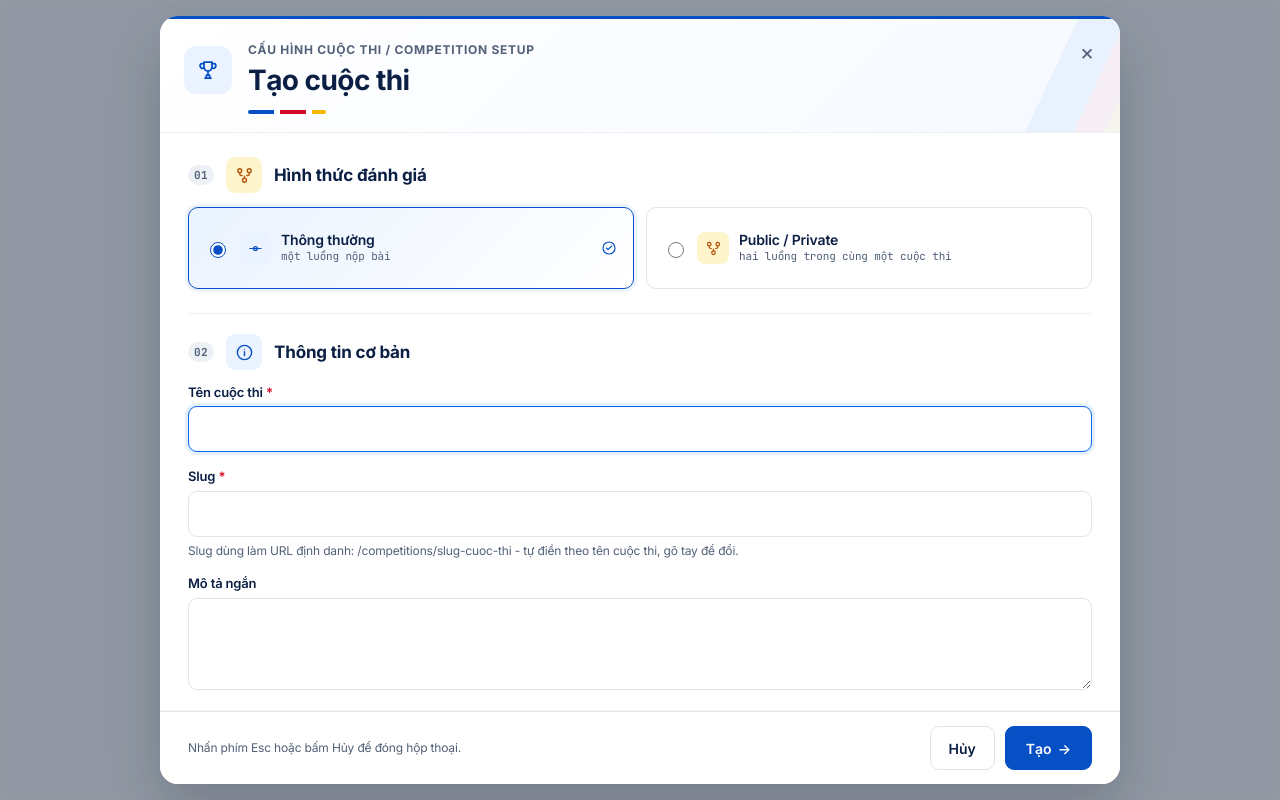
Test case: slug tự điền theo tên cuộc thi; gõ tay thì giá trị tay thắng
Type "Cuộc thi AI 2026" into the field labelled "Tên cuộc thi".
click(640, 429); type("Cuộc thi AI 2026")  # box x1=188 y1=406 x2=1092 y2=452
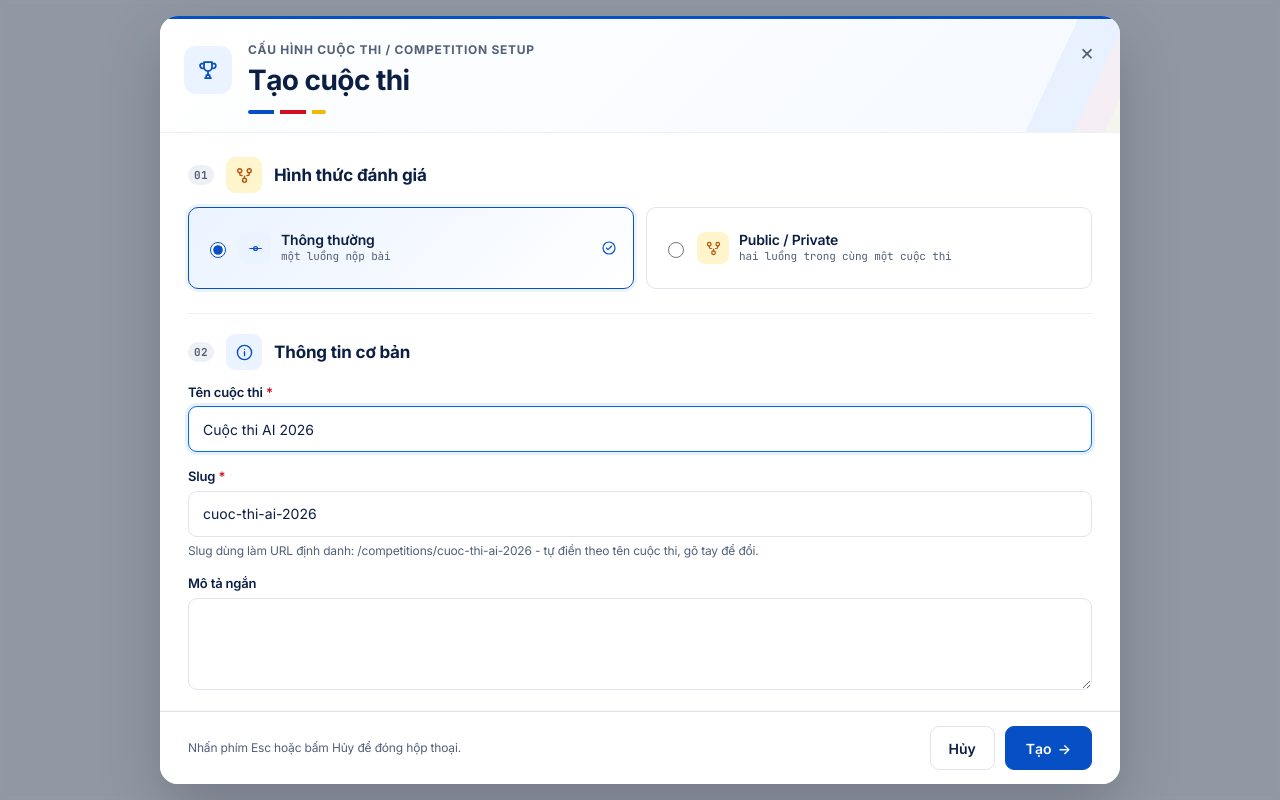
Result: the field labelled "Slug" holds "cuoc-thi-ai-2026"
Gõ tay vào slug: đổi tên tiếp cũng không ghi đè lựa chọn của admin.
Replace the text in the field labelled "Slug" with "vku-2026" at (640, 514), box x1=188 y1=490 x2=1092 y2=536
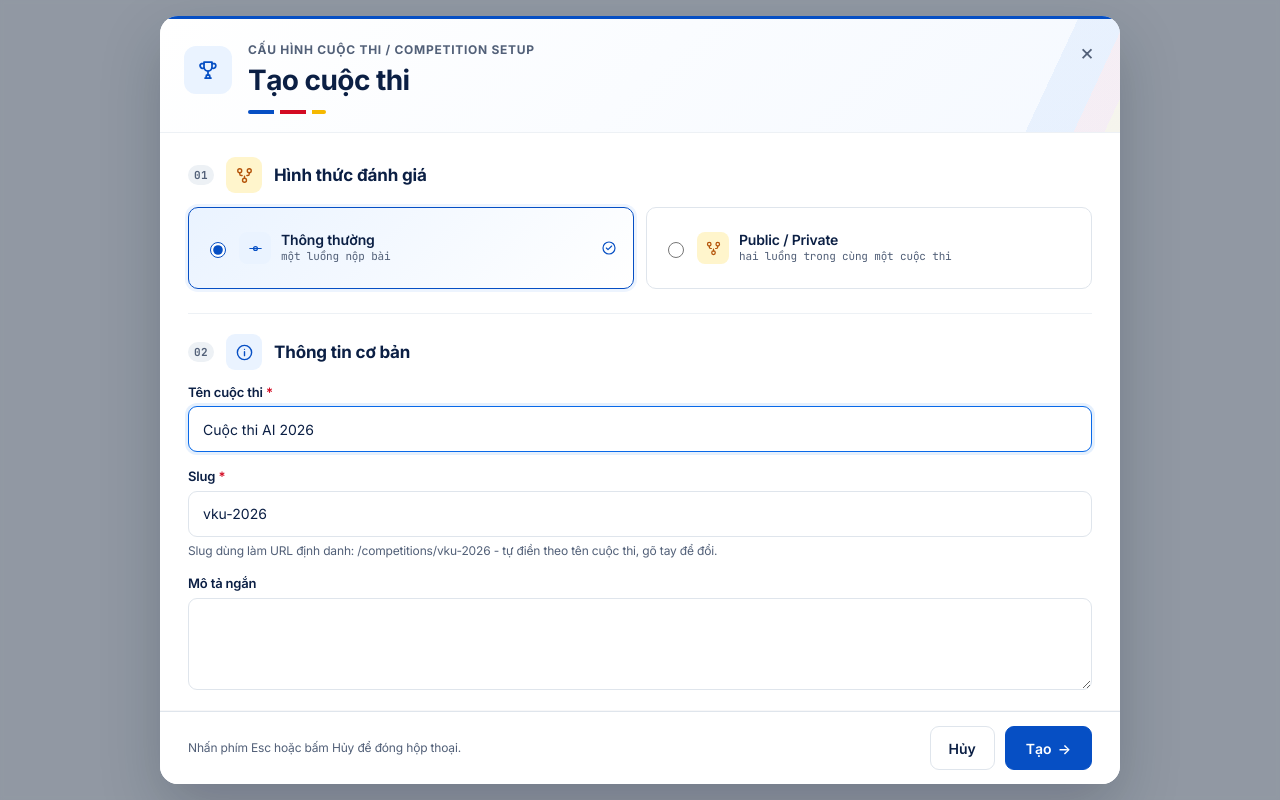
Replace the text in the field labelled "Tên cuộc thi" with "Tên khác" at (640, 429), box x1=188 y1=406 x2=1092 y2=452
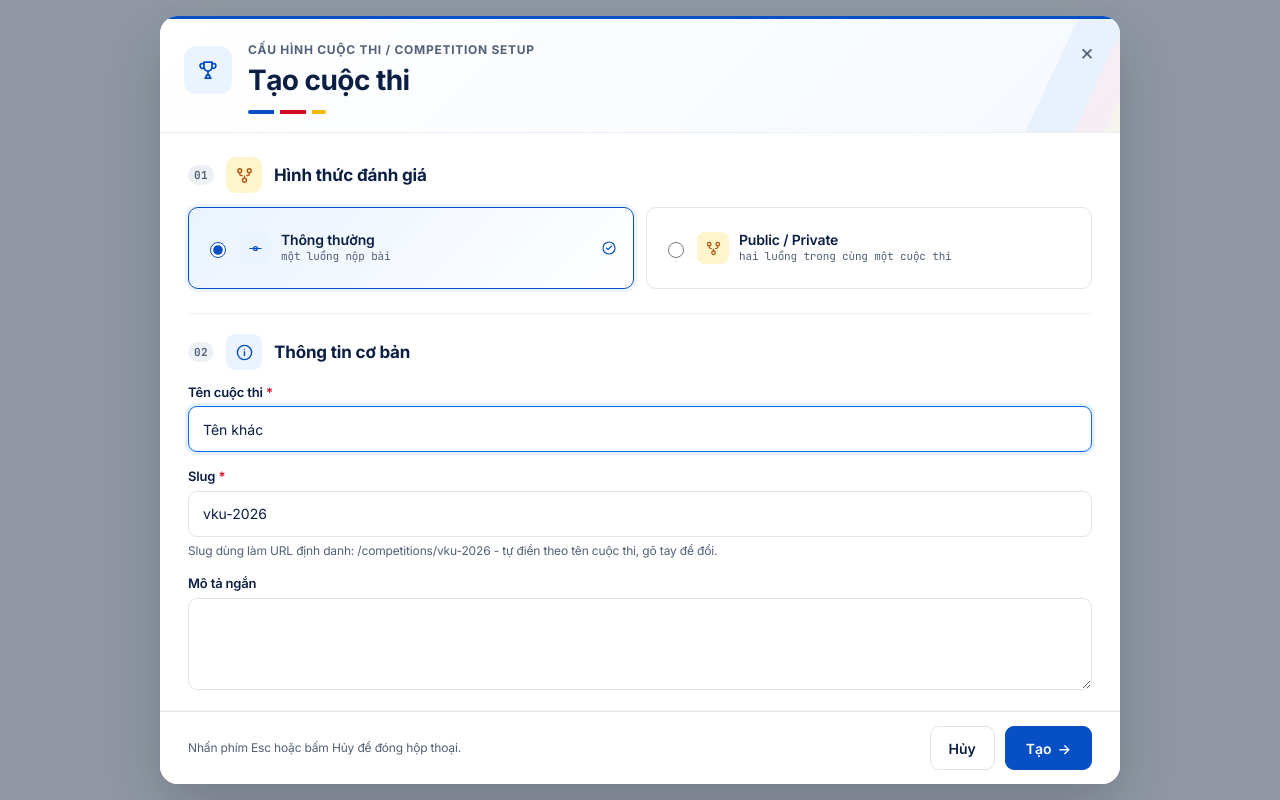
Xoá trắng ô slug là bật lại tự điền.
Clear the field labelled "Slug" at (640, 514), box x1=188 y1=490 x2=1092 y2=536
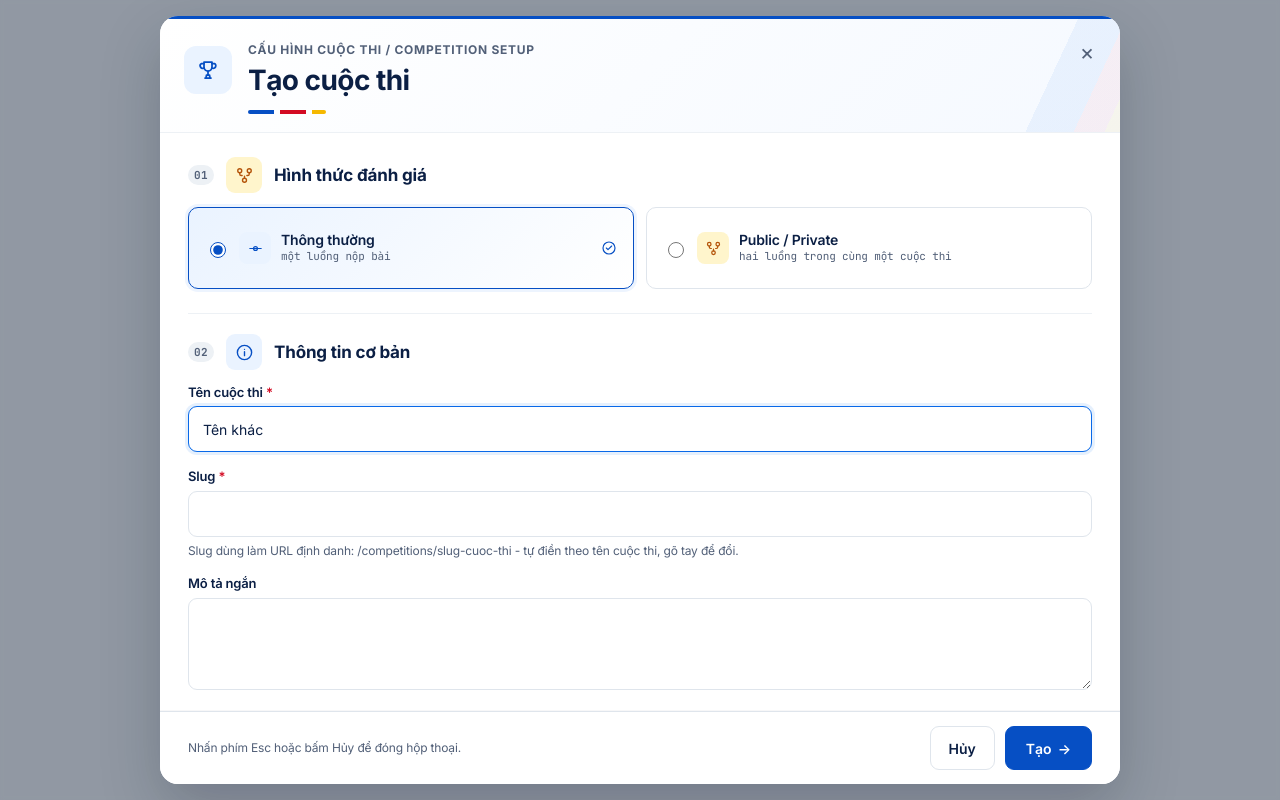
Replace the text in the field labelled "Tên cuộc thi" with "VKU Challenge" at (640, 429), box x1=188 y1=406 x2=1092 y2=452
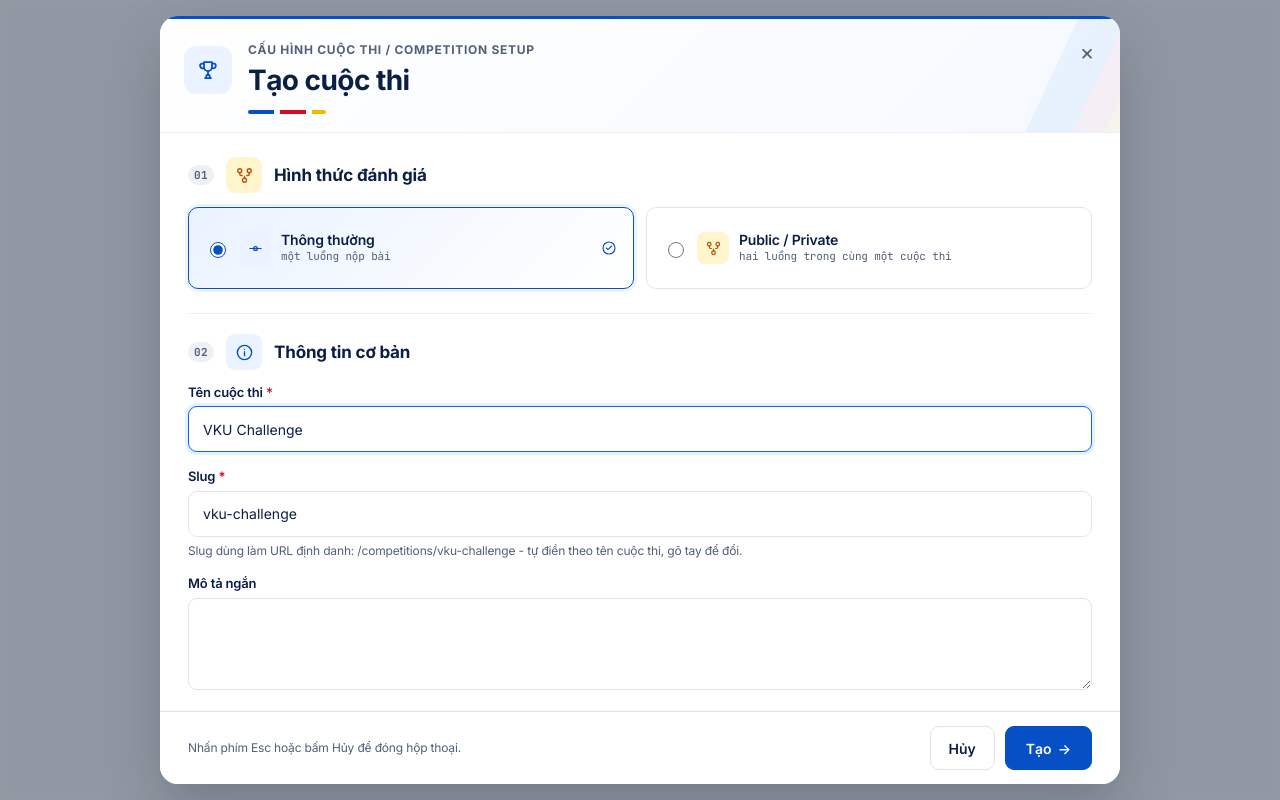
Result: the field labelled "Slug" holds "vku-challenge" at x1=188 y1=490 x2=1092 y2=536
